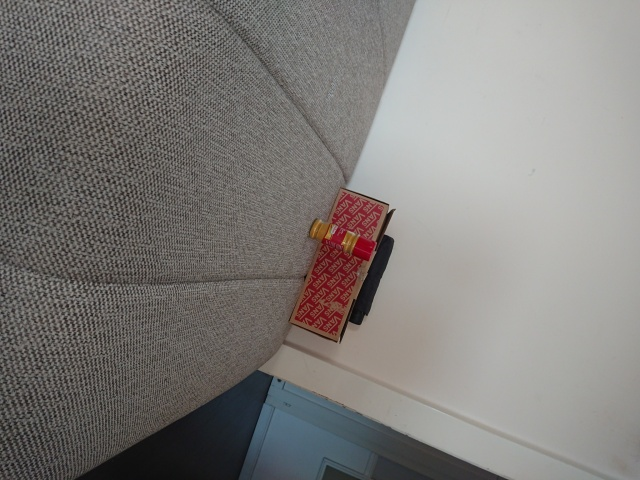Kotanyi Curry Spices Mix 70g: (307, 215, 378, 263)
